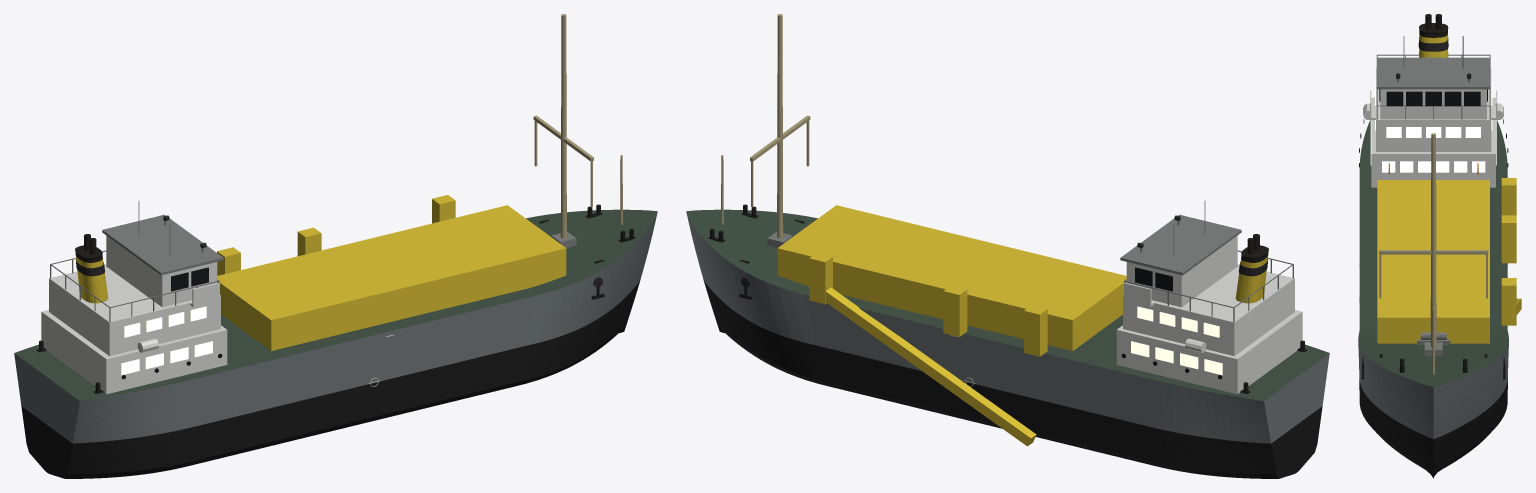
Rendered from dredger45.glb.
3 views of the same model, side by side, from view 1: azimuth 30°, elevation 25°; view 2: azimuth 150°, elevation 25°; view 3: azimuth 270°, elevation 25° (orthographic). The views are drawn at different scales.
Parts seen in each view (by area): view 1: dredger45; view 2: dredger45; view 3: dredger45, dredger45_post.
Part boxes in pixels (<box>): dredger45: <box>14,14,657,478</box>; dredger45: <box>686,14,1329,478</box>; dredger45: <box>1358,14,1521,478</box>; dredger45_post: <box>1432,308,1434,374</box>.
Bounding box in the file's own units: 45.5 × 23.6 × 11.05.
